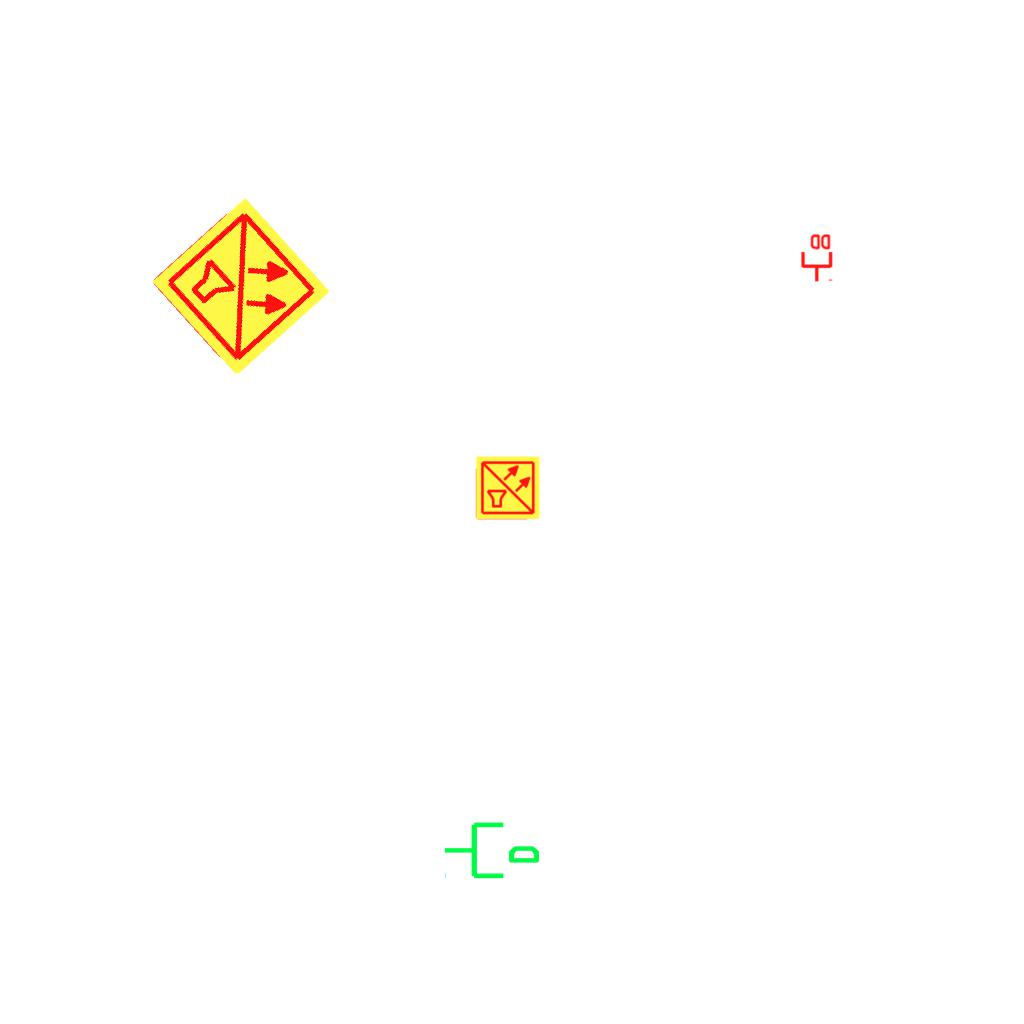Datenanschluss_einfach: (442, 814, 542, 883)
Datenanschluss_zweifach: (799, 232, 833, 283)
OKW_Multisensormelder_(Kombination_optischer_Rauch-Kahlenmonoxid_Waerme-Melder): (147, 193, 335, 381), (475, 455, 541, 521)
